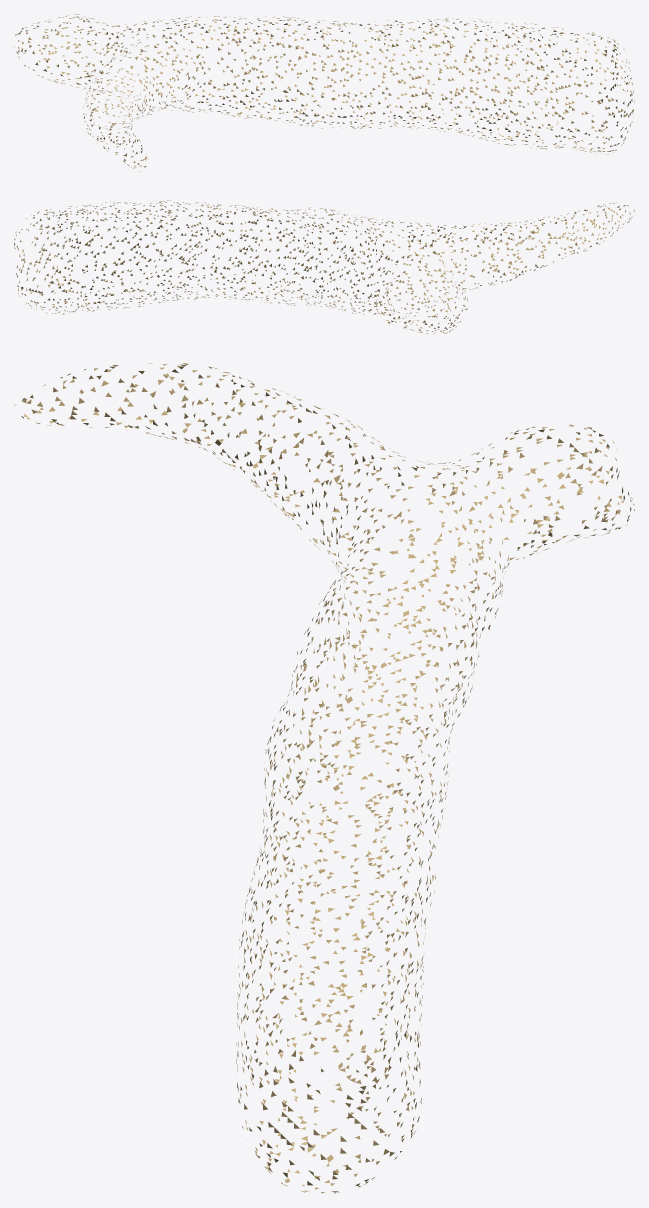
The model's file is morph_007.glb.
The picture shows the model from 3 angles, top to bottom: view 1: azimuth 30°, elevation 25°; view 2: azimuth 150°, elevation 25°; view 3: azimuth 270°, elevation 25°; orthographic projection. The views are drawn at different scales.
Size of the model in its own units: 132 by 44.47 by 68.83.
